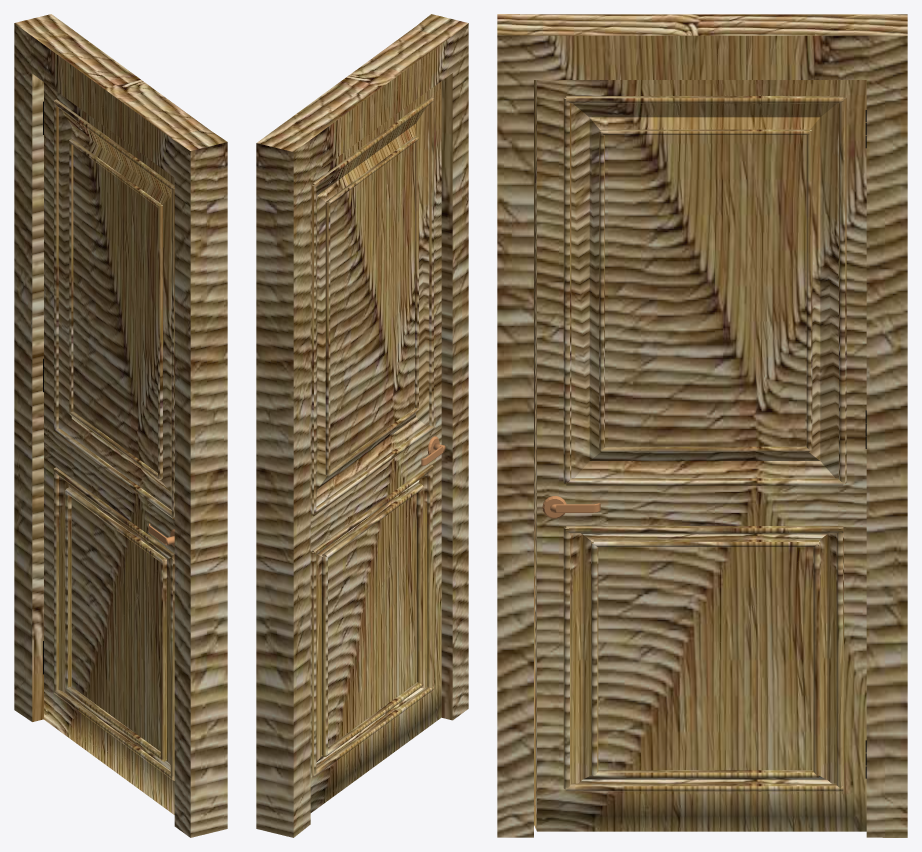
File: Porta.fbx
3 views of the same model, side by side, from view 1: azimuth 30°, elevation 25°; view 2: azimuth 150°, elevation 25°; view 3: azimuth 270°, elevation 25° (orthographic). The views are drawn at different scales.
Parts seen in each view (by area): view 1: Anta, Cornicione_Porta; view 2: Anta, Cornicione_Porta; view 3: Anta, Cornicione_Porta.
Boxes of the visible parts, x1,y1,x2,y2 form: Anta: (44, 82, 174, 814); Cornicione_Porta: (14, 14, 227, 837); Anta: (310, 81, 441, 812); Cornicione_Porta: (256, 14, 468, 837); Anta: (534, 80, 866, 831); Cornicione_Porta: (497, 14, 907, 837).
Bounding box in the file's own units: 42.82 × 744 × 345.
